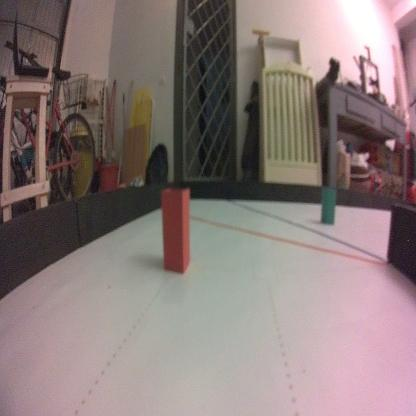green: (319, 185, 337, 227)
red: (160, 186, 191, 274)
